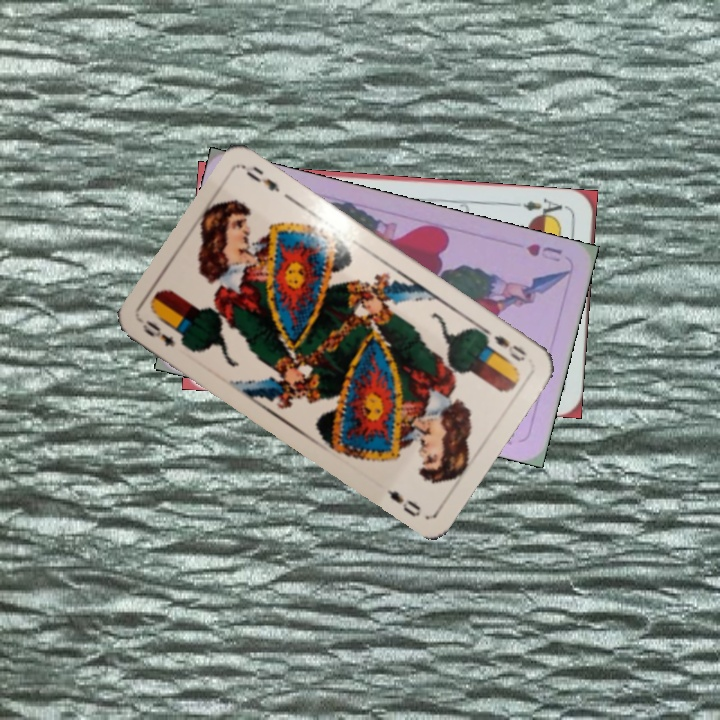EA: (511, 194, 570, 222)
EO: (480, 326, 529, 365), (138, 316, 178, 350)
HU: (522, 239, 565, 265)
